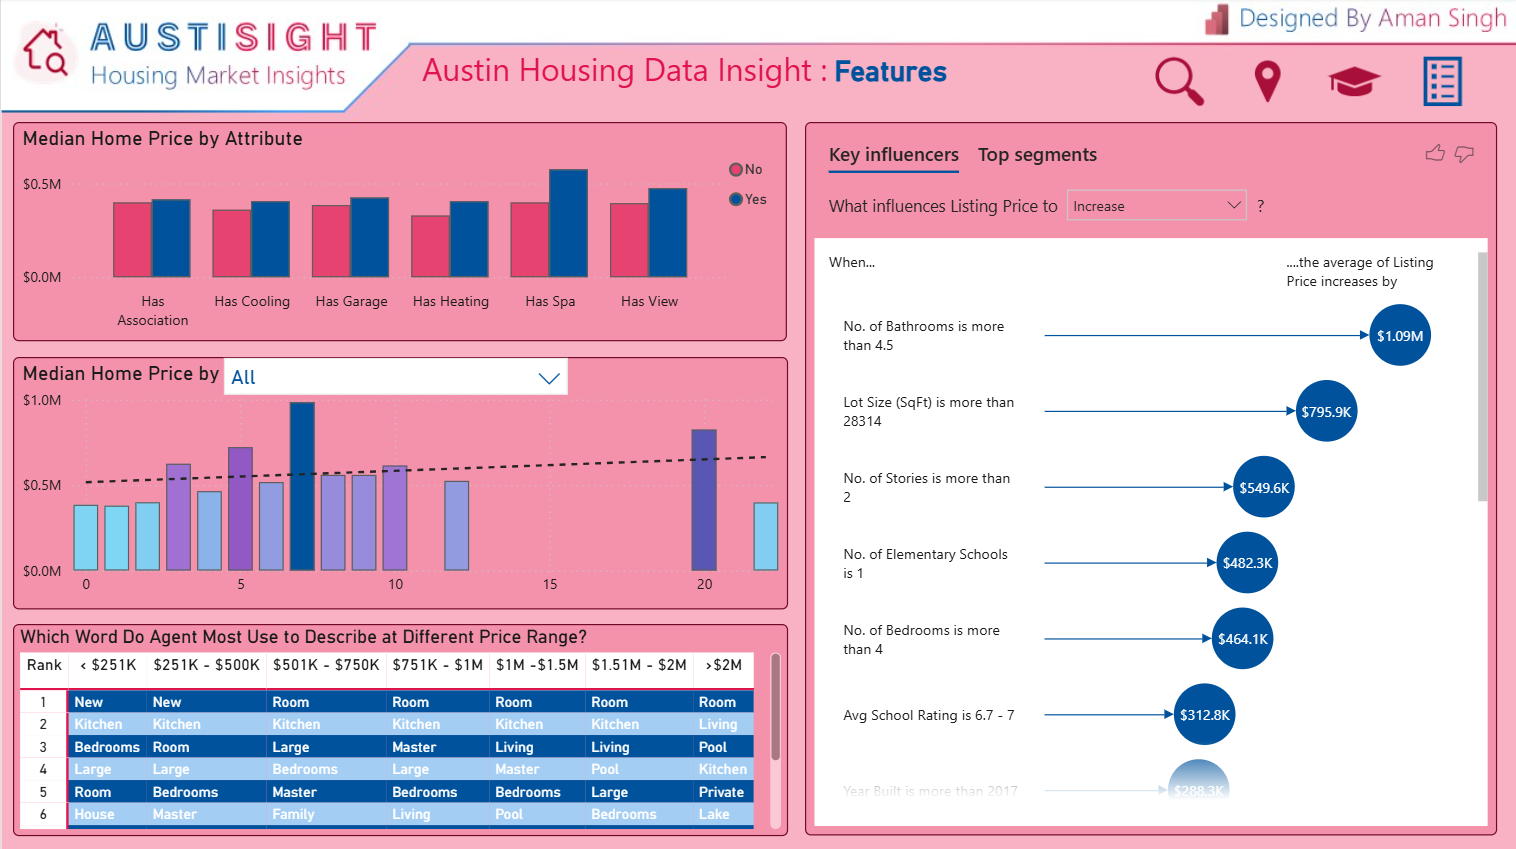

The page's visual inventory and layout, read from the dashboard file:
{"tool":"powerbi","page":{"name":"Austin Housing Market Insight","canvas":[1280,720],"ordinal":1},"visuals":[{"type":"textbox","box":[350,36.2,492.5,48.8],"z":0,"group":"g1"},{"type":"lineClusteredColumnComboChart","title":"Median Home Price by ","fields":{"Category":["House.garageSpaces","House.numOfAccessibilityFeatures","House.numOfAppliances","House.numOfBathrooms","House.numOfBedrooms","House.numOfParkingFeatures","House.numOfCommunityFeatures","House.numOfPatioAndPorchFeatures","House.numOfSecurityFeatures","House.numOfStories","House.numOfWaterfrontFeatures","House.numOfWindowFeatures"],"Y":["_measure.Median Home Price"]},"box":[9.7,302.5,653.7,213.2],"z":1000,"group":"g1"},{"type":"clusteredColumnChart","title":"Median Home Price by Attribute","fields":{"Category":["Features-Pivot.Attribute"],"Series":["Features-Pivot.Value"],"Y":["_measure.Median Home Price"]},"box":[10,105,653.3,185],"z":2000,"group":"g1"},{"type":"actionButton","box":[1186,41,61,58],"z":3000,"group":"g2"},{"type":"pivotTable","title":"Which Word Do Agent Most Use to Describe at Different Price Range?","fields":{"Columns":["Housing-Fact.latestPrice (groups)"],"Rows":["Z_Word_Rank.Rank"],"Values":["_measure.Word Find"]},"box":[9.7,528,653.7,178.7],"z":3000,"group":"g1"},{"type":"actionButton","box":[964,41,61,58],"z":4000,"group":"g2"},{"type":"keyDriversVisual","fields":{"ExplainBy":["Sum(Housing-Fact.yearBuilt)","Sum(Housing-Fact.livingAreaSqFt)","Sum(Housing-Fact.lotSizeSqFt)","House.garageSpaces","House.numOfAccessibilityFeatures","House.numOfAppliances","House.numOfBathrooms","House.numOfBedrooms","House.numOfCommunityFeatures","House.numOfParkingFeatures","House.numOfPatioAndPorchFeatures","House.numOfSecurityFeatures"],"Target":["Housing-Fact.latestPrice"]},"box":[678,105,584,602],"z":4000,"group":"g1"},{"type":"actionButton","box":[1038,41,61,58],"z":5000,"group":"g2"},{"type":"slicer","fields":{"Values":["Parameter.Parameter"]},"box":[183.1,298.9,299.9,42.5],"z":5000,"group":"g1"},{"type":"group","id":"g1","title":"Features","box":[9.7,36.2,1252.3,670.8],"z":6000},{"type":"actionButton","box":[1112,41,61,58],"z":6000,"group":"g2"},{"type":"group","id":"g2","title":"Navigation","box":[964,41,283,58],"z":15000}]}

Visuals, with their boxes in screenshot pixels (x1, y1, x2, y2), scaled from the page's 1280x720 canvas onto the 1516x849 screenshot:
textbox: bbox=[415, 43, 998, 100]
"Median Home Price by " lineClusteredColumnComboChart: bbox=[11, 357, 786, 608]
"Median Home Price by Attribute" clusteredColumnChart: bbox=[12, 124, 786, 342]
actionButton: bbox=[1405, 48, 1477, 117]
"Which Word Do Agent Most Use to Describe at Different Price Range?" pivotTable: bbox=[11, 623, 786, 833]
actionButton: bbox=[1142, 48, 1214, 117]
keyDriversVisual - Sum(Housing-Fact.yearBuilt) x Sum(Housing-Fact.livingAreaSqFt): bbox=[803, 124, 1495, 834]
actionButton: bbox=[1229, 48, 1302, 117]
slicer - Parameter.Parameter: bbox=[217, 352, 572, 403]
"Features" group: bbox=[11, 43, 1495, 834]
actionButton: bbox=[1317, 48, 1389, 117]
"Navigation" group: bbox=[1142, 48, 1477, 117]
